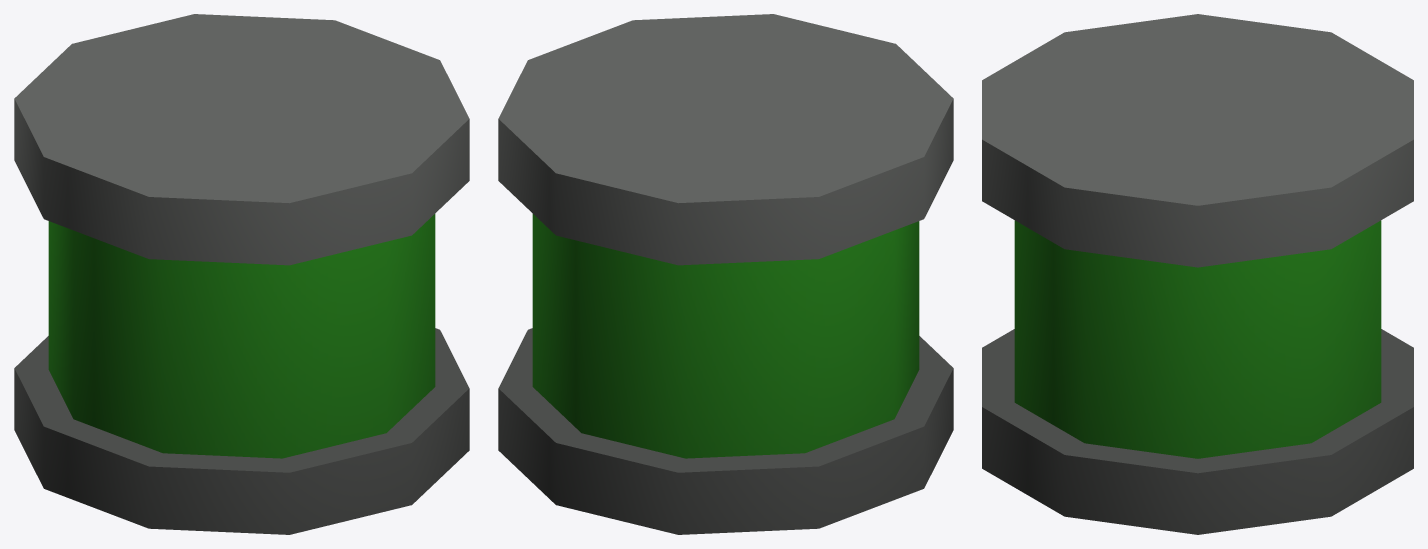
The model's file is uranium-fuel-cell.glb.
3 renders of one model, left to right at view 1: azimuth 30°, elevation 25°; view 2: azimuth 150°, elevation 25°; view 3: azimuth 270°, elevation 25°, orthographic.
Visible parts, largest first — view 1: uranium-fuel-cell; view 2: uranium-fuel-cell; view 3: uranium-fuel-cell.
Boxes of the visible parts, x1,y1,x2,y2 form: uranium-fuel-cell: (14,14,469,534); uranium-fuel-cell: (498,14,953,534); uranium-fuel-cell: (982,14,1413,534).
Size of the model in its own units: 0.2 by 0.16 by 0.1902.
